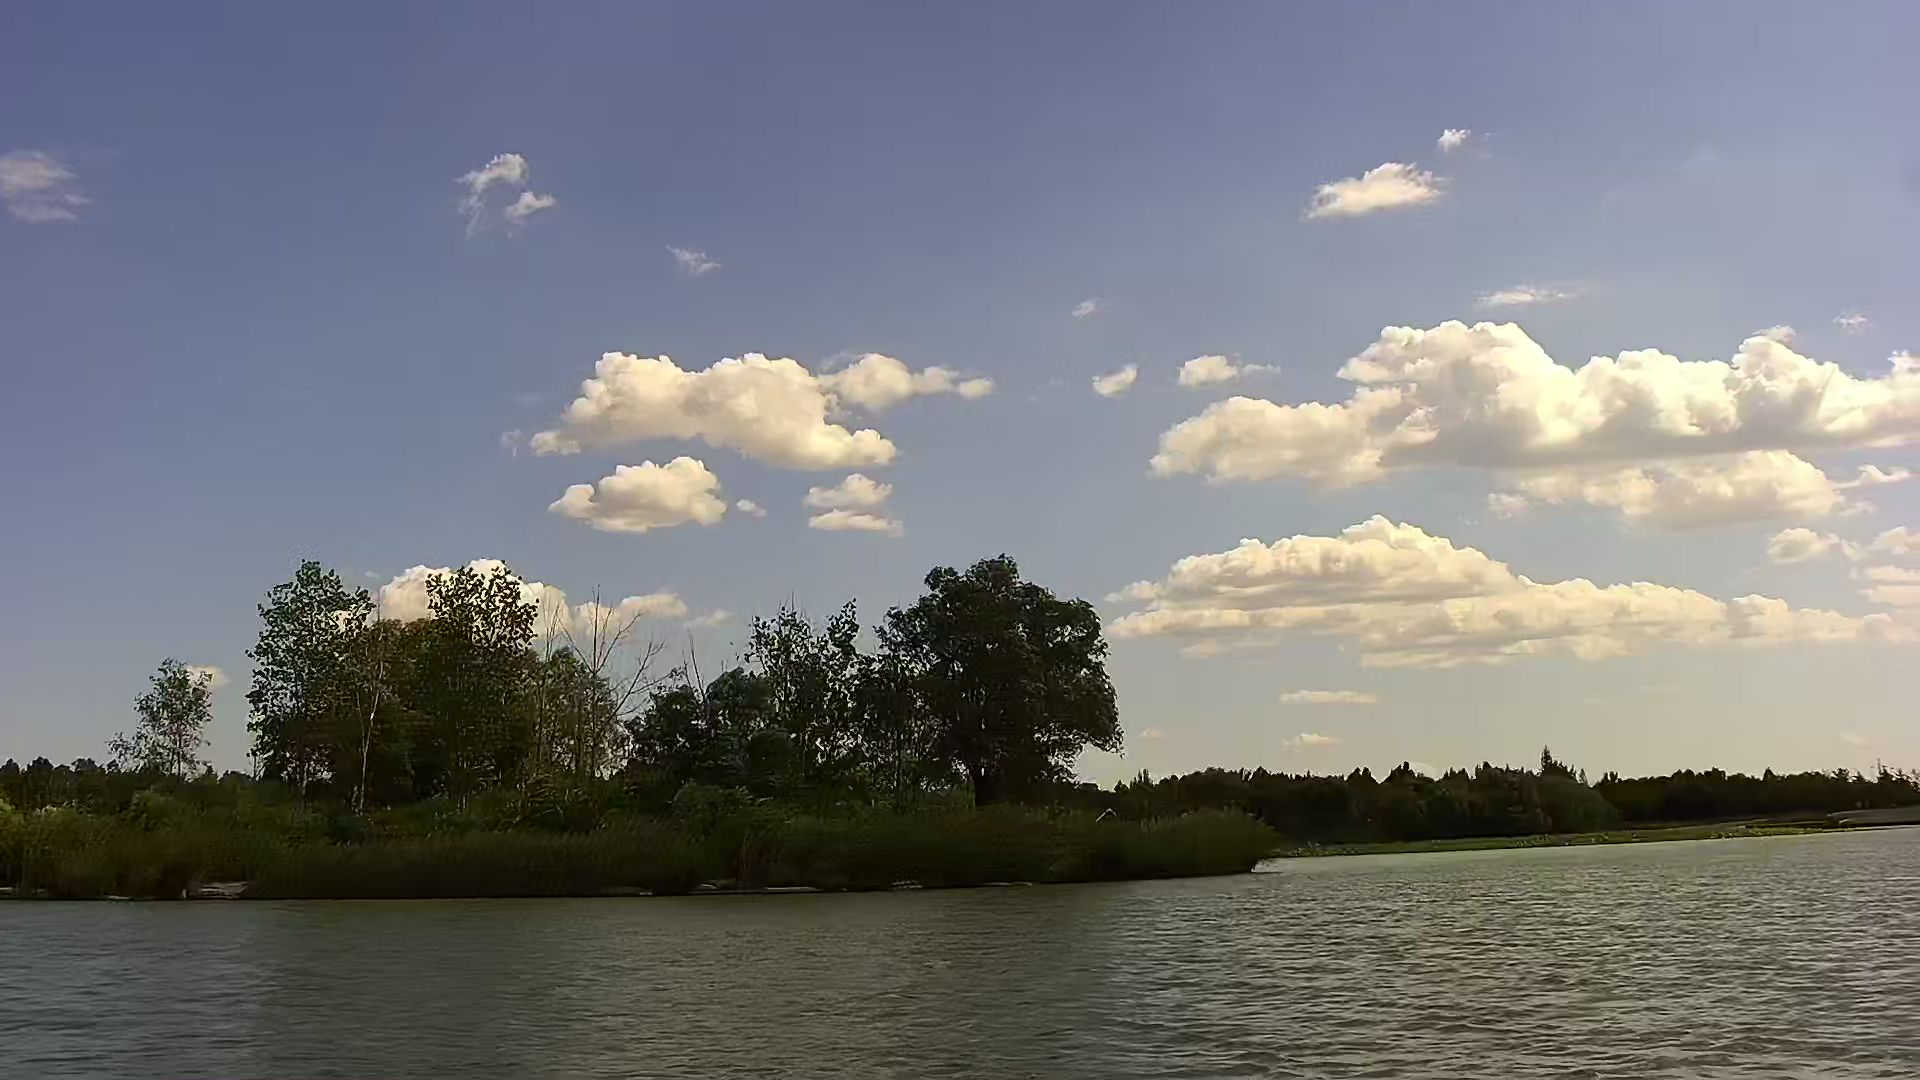rock: (185, 885, 244, 905)
